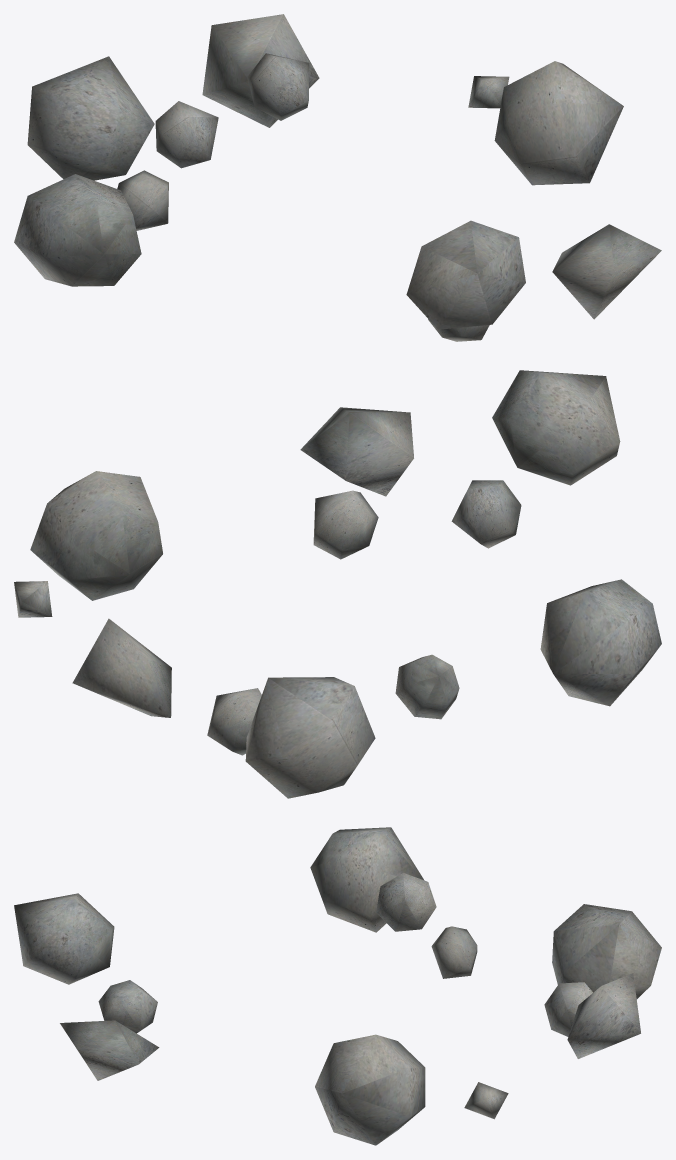
Rendered from stone_effect16.obj.
3 renders of one model, top to bottom at view 1: azimuth 30°, elevation 25°; view 2: azimuth 150°, elevation 25°; view 3: azimuth 270°, elevation 25°, orthographic. The views are drawn at different scales.
Parts seen in each view (by area): view 1: Sphere011; view 2: Sphere011; view 3: Sphere011.
Boxes of the visible parts, <box> form: Sphere011: <box>14,14,661,341</box>; Sphere011: <box>14,370,661,798</box>; Sphere011: <box>14,827,661,1145</box>.
Size of the model in its own units: 253 by 77.88 by 281.
Materials: 1 (1 with a texture image).
